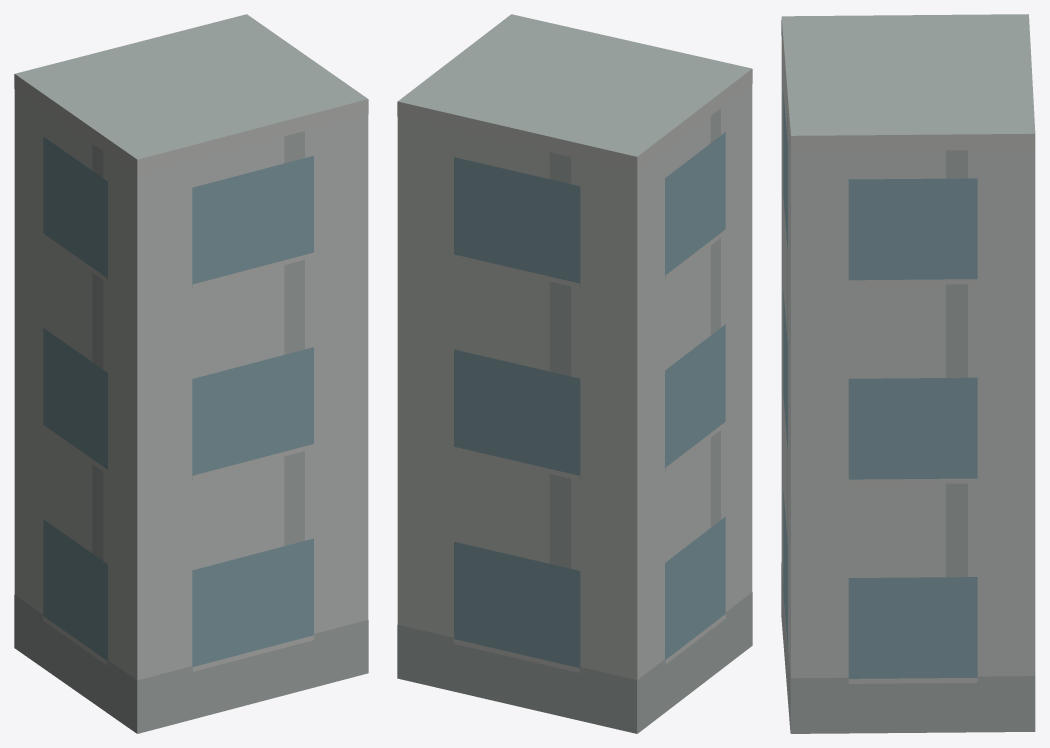
The model's file is survey-upis-32633951.glb.
The picture shows the model from 3 angles, left to right: view 1: azimuth 30°, elevation 25°; view 2: azimuth 150°, elevation 25°; view 3: azimuth 270°, elevation 25°; orthographic projection. The views are drawn at different scales.
Visible parts, largest first — view 1: survey-upis-32633951.tmp; view 2: survey-upis-32633951.tmp; view 3: survey-upis-32633951.tmp.
Boxes of the visible parts, x1=… form: survey-upis-32633951.tmp: x1=14, y1=14, x2=368, y2=733; survey-upis-32633951.tmp: x1=397, y1=14, x2=752, y2=733; survey-upis-32633951.tmp: x1=781, y1=14, x2=1035, y2=733.
Size of the model in its own units: 4.01 by 9.15 by 3.53.
